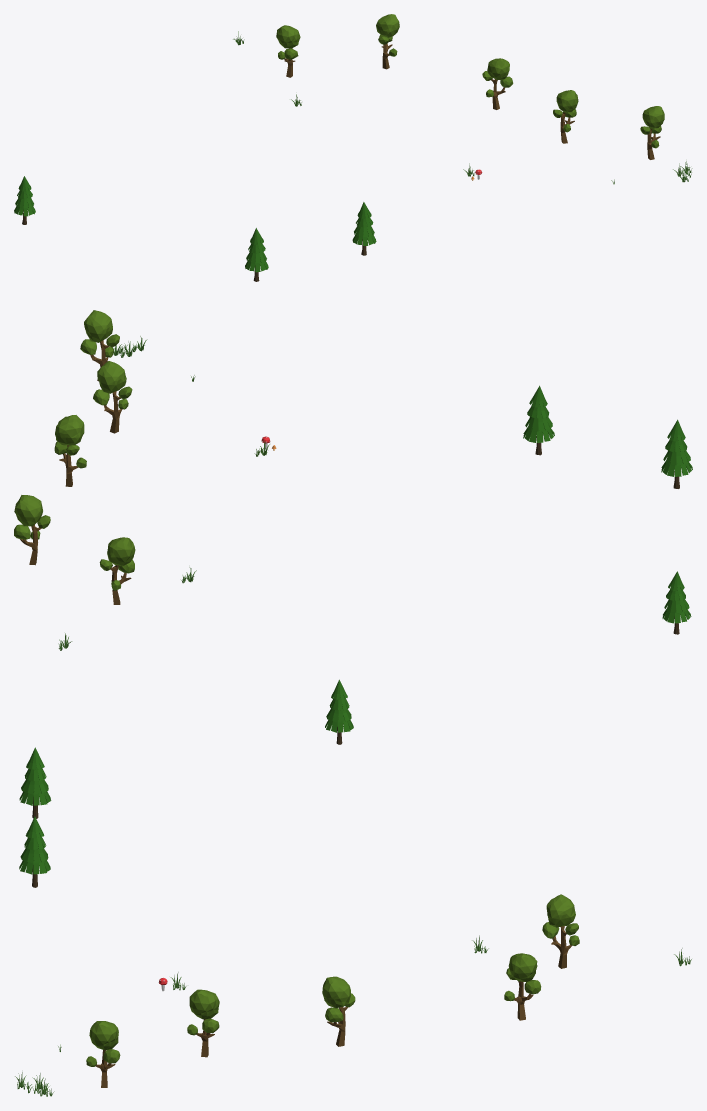
The model's file is Trees_level5.glb.
3 renders of one model, top to bottom at view 1: azimuth 30°, elevation 25°; view 2: azimuth 150°, elevation 25°; view 3: azimuth 270°, elevation 25°, orthographic. The views are drawn at different scales.
Parts seen in each view (by area): view 1: Trees_level5; view 2: Trees_level5; view 3: Trees_level5.
Boxes of the visible parts, x1,y1,x2,y2 form: Trees_level5: [14, 14, 692, 281]; Trees_level5: [14, 310, 692, 650]; Trees_level5: [15, 679, 691, 1096].
Bounding box in the file's own units: 6.77 × 0.6148 × 5.39.
